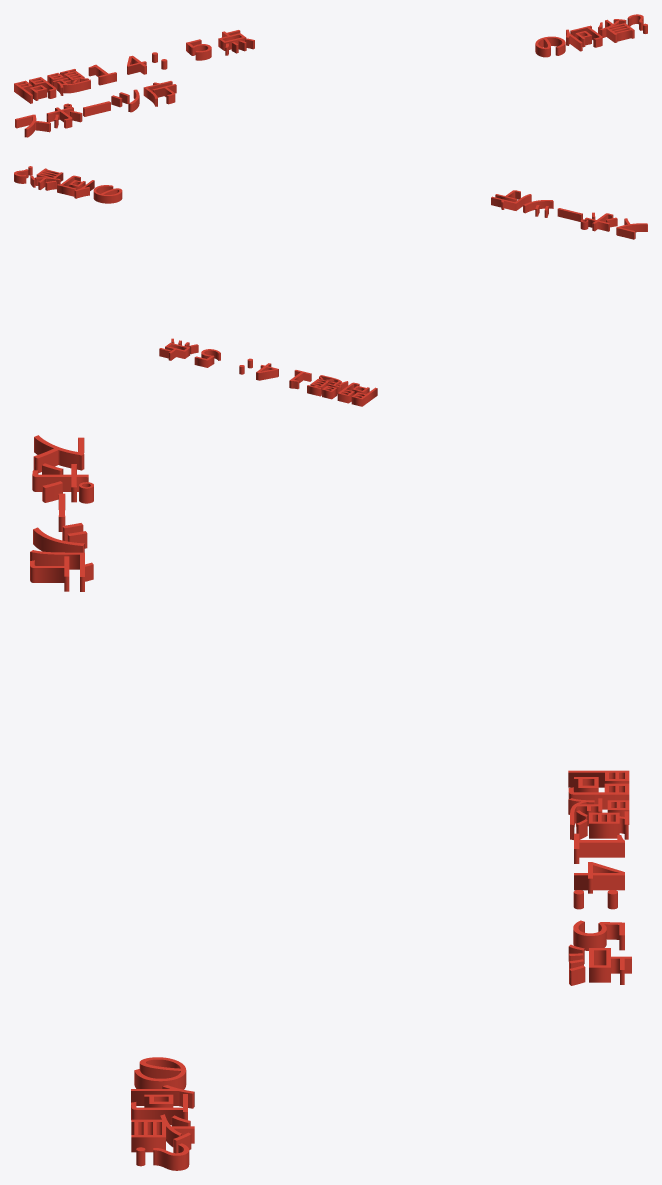
The picture shows the model from 3 angles, top to bottom: view 1: azimuth 30°, elevation 25°; view 2: azimuth 150°, elevation 25°; view 3: azimuth 270°, elevation 25°; orthographic projection. The views are drawn at different scales.
Visible parts, largest first — view 1: テキスト.004, テキスト.001, テキスト.003; view 2: テキスト.004, テキスト.001, テキスト.003; view 3: テキスト.004, テキスト.001, テキスト.003.
Part boxes in pixels (box(x1,y1,x2,y2)): テキスト.004: box(14, 30, 254, 103); テキスト.001: box(15, 81, 176, 137); テキスト.003: box(535, 14, 647, 57); テキスト.004: box(159, 338, 377, 406); テキスト.001: box(491, 190, 647, 239); テキスト.003: box(14, 166, 122, 203); テキスト.004: box(568, 770, 631, 985); テキスト.001: box(30, 435, 93, 591); テキスト.003: box(131, 1057, 194, 1170).
Size of the model in its own units: 19.99 by 3.44 by 8.71.
